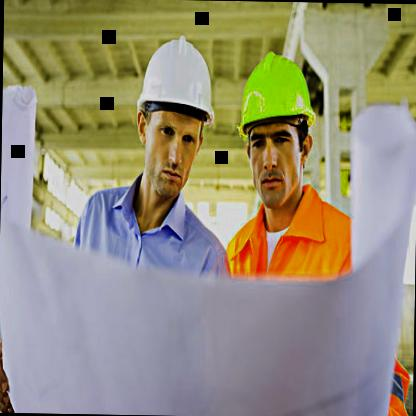helmet: (118, 14, 218, 215), (234, 30, 330, 220)
